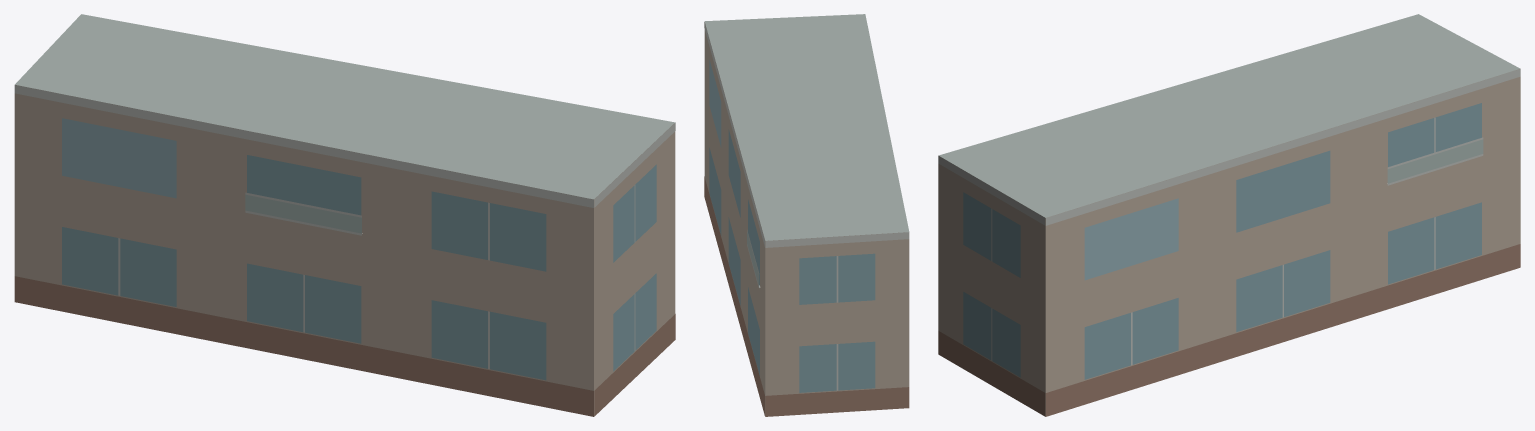
Rendered from survey-upis-32724881.glb.
The picture shows the model from 3 angles, left to right: view 1: azimuth 30°, elevation 25°; view 2: azimuth 150°, elevation 25°; view 3: azimuth 270°, elevation 25°; orthographic projection. The views are drawn at different scales.
Parts seen in each view (by area): view 1: survey-upis-32724881.tmp; view 2: survey-upis-32724881.tmp; view 3: survey-upis-32724881.tmp.
Part boxes in pixels (x1,y1,x2,y2): survey-upis-32724881.tmp: (14, 14, 675, 416); survey-upis-32724881.tmp: (704, 14, 909, 416); survey-upis-32724881.tmp: (938, 14, 1520, 416).
Size of the model in its own units: 13.42 by 6.1 by 16.19.
